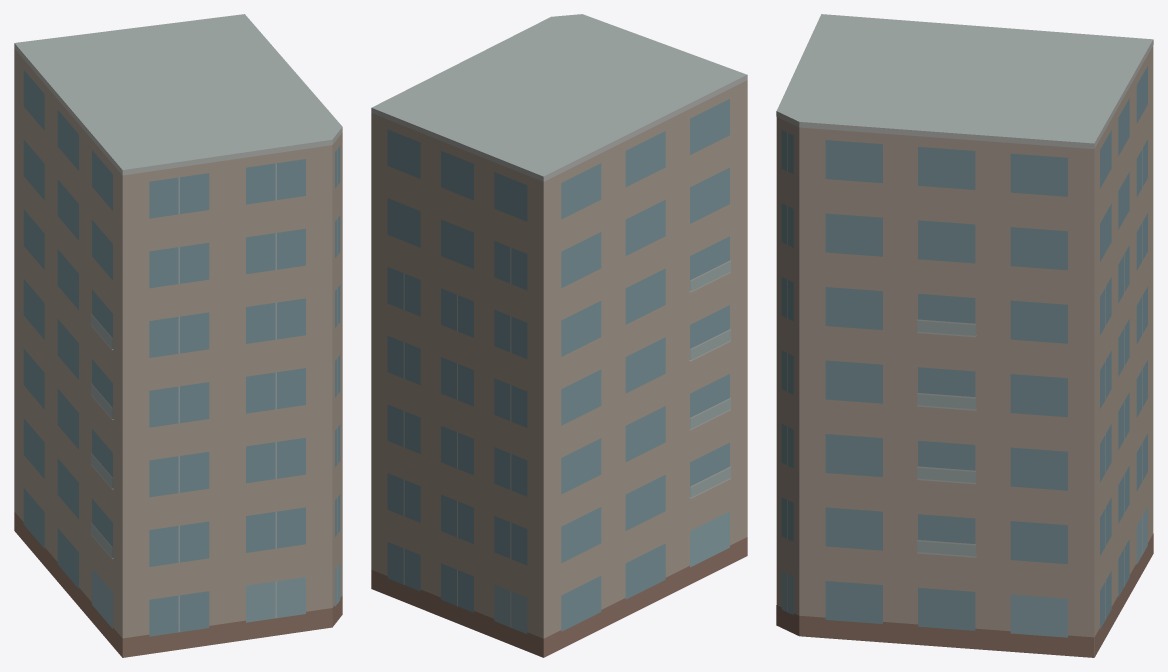
Rendered from survey-upis-32576029.glb.
3 renders of one model, left to right at view 1: azimuth 30°, elevation 25°; view 2: azimuth 150°, elevation 25°; view 3: azimuth 270°, elevation 25°, orthographic. The views are drawn at different scales.
Visible parts, largest first — view 1: survey-upis-32576029.tmp; view 2: survey-upis-32576029.tmp; view 3: survey-upis-32576029.tmp.
Part boxes in pixels (x1,y1,x2,y2): survey-upis-32576029.tmp: [14, 14, 342, 657]; survey-upis-32576029.tmp: [371, 14, 747, 657]; survey-upis-32576029.tmp: [776, 14, 1153, 657].
Bounding box in the file's own units: 12 × 22.2 × 14.75.
